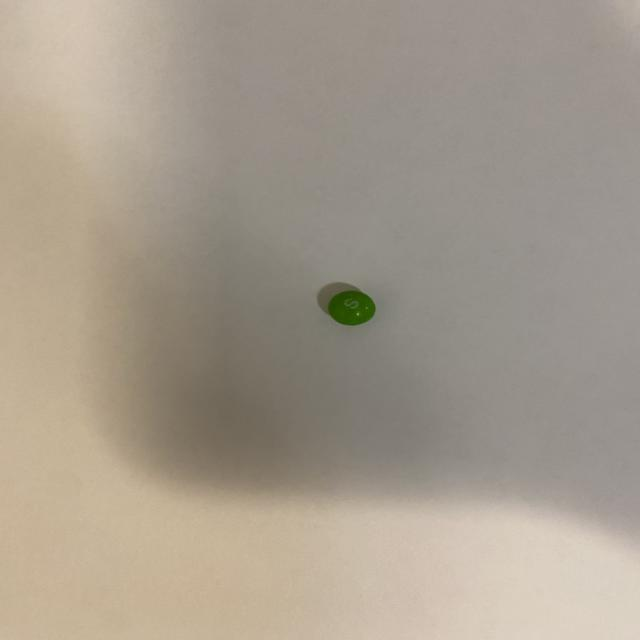smartie: (328, 291, 375, 325)
